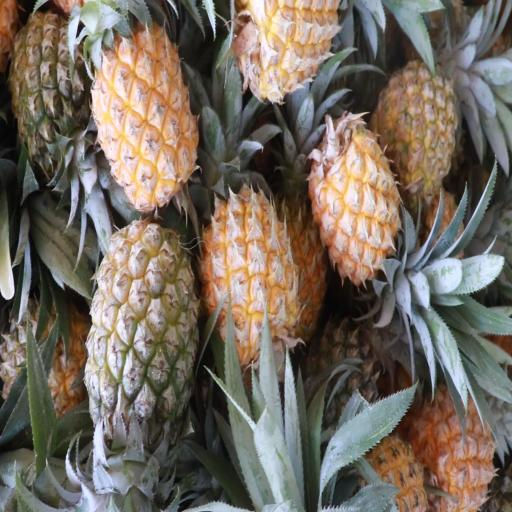------------------------------: (89, 226, 195, 445), (3, 297, 93, 433), (375, 65, 458, 199)
Pineapple - v8 v1: (93, 15, 197, 199), (203, 191, 296, 367), (310, 118, 396, 288), (414, 378, 494, 511), (240, 0, 338, 100)
